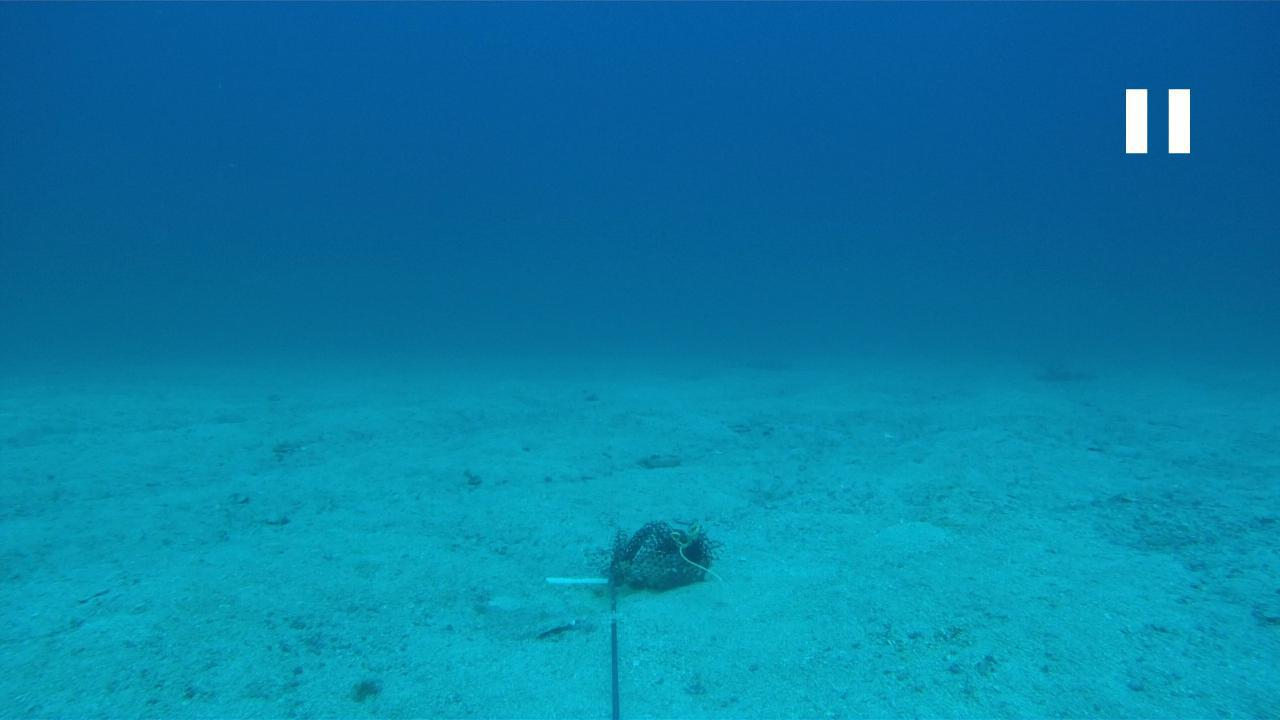bothus: (470, 600, 586, 647)
